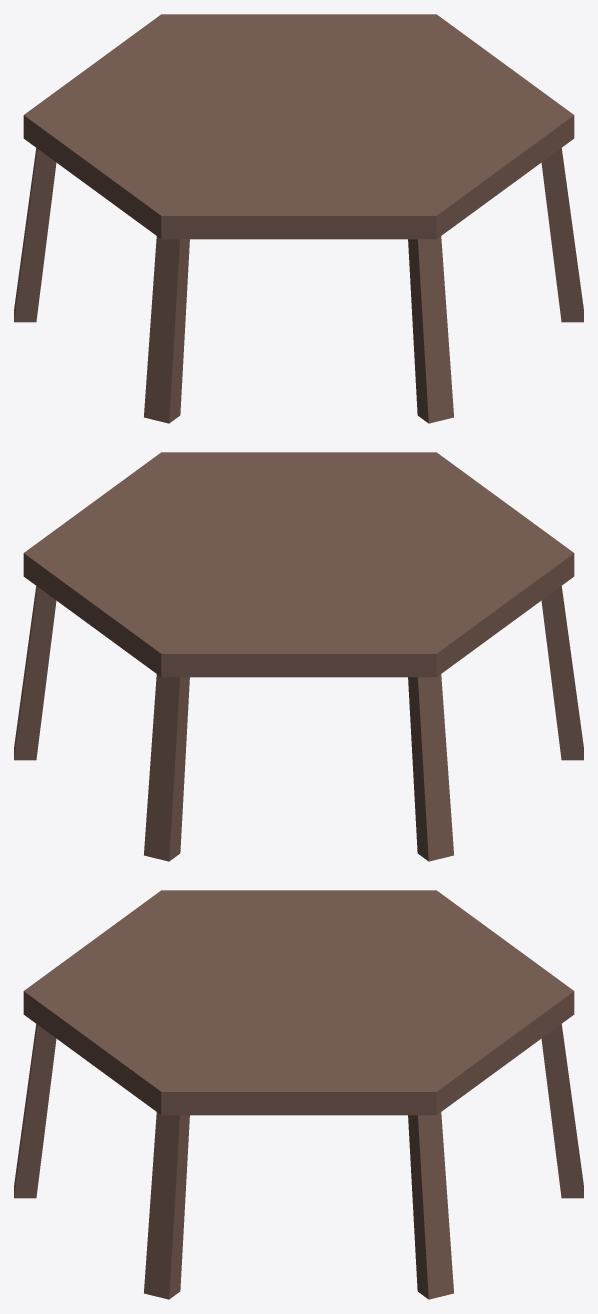
Rendered from COFFEETABLE.fbx.
3 renders of one model, top to bottom at view 1: azimuth 30°, elevation 25°; view 2: azimuth 150°, elevation 25°; view 3: azimuth 270°, elevation 25°, orthographic.
Parts seen in each view (by area): view 1: Circle.003; view 2: Circle.003; view 3: Circle.003.
Boxes of the visible parts, <box> form: Circle.003: <box>14,14,583,423</box>; Circle.003: <box>14,452,583,861</box>; Circle.003: <box>14,890,583,1299</box>.
Bounding box in the file's own units: 596 × 260 × 668.
